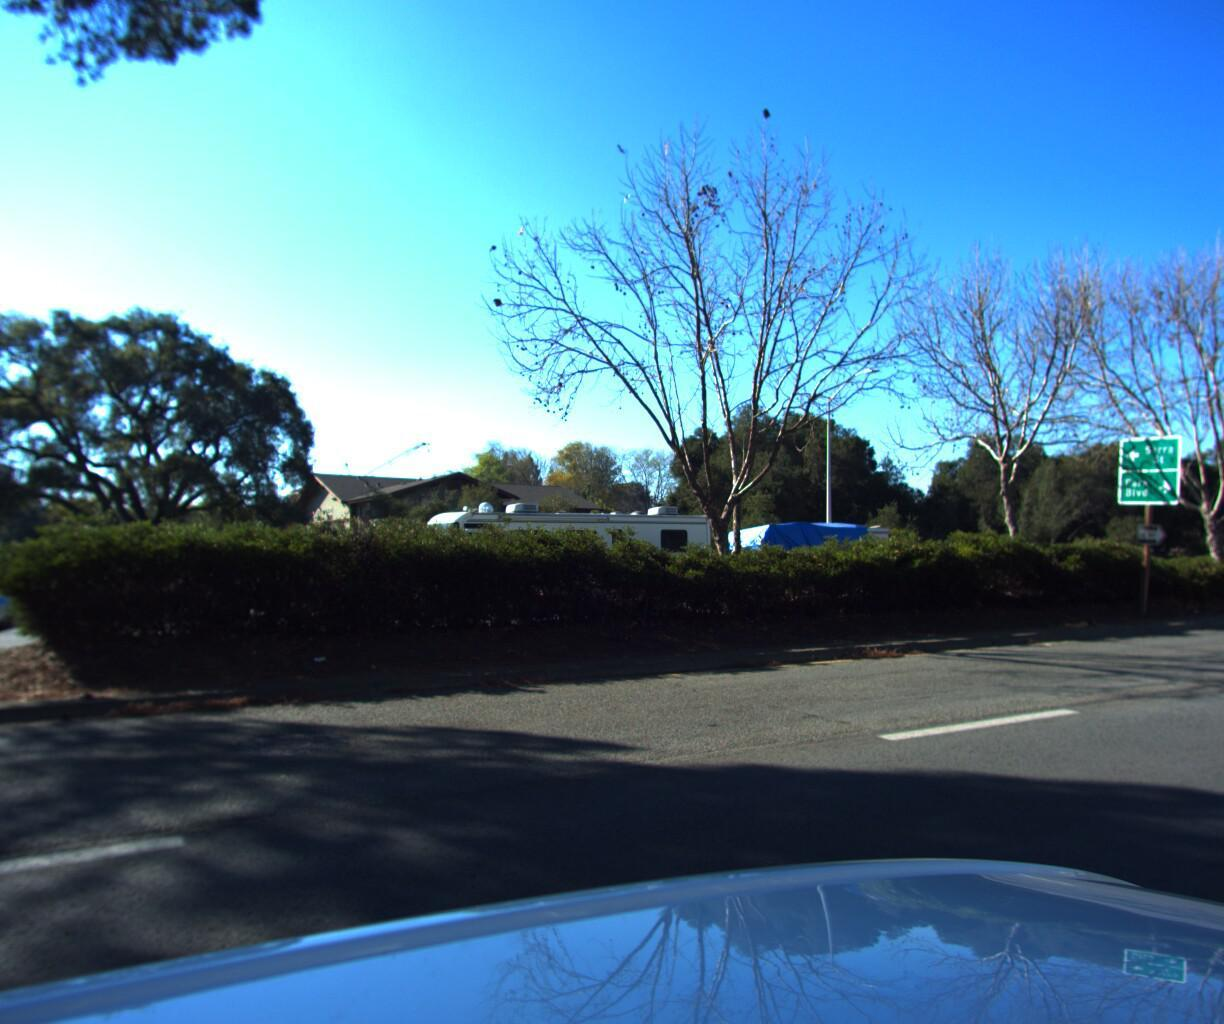car: (0, 536, 6, 670)
other_vehicle: (396, 476, 726, 609), (713, 516, 901, 609)
